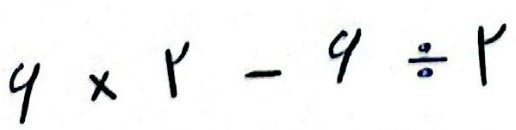character: (9, 61, 41, 125), (478, 22, 509, 87), (329, 28, 362, 83), (407, 41, 449, 79), (165, 40, 190, 98), (88, 69, 117, 101), (244, 68, 282, 79)
